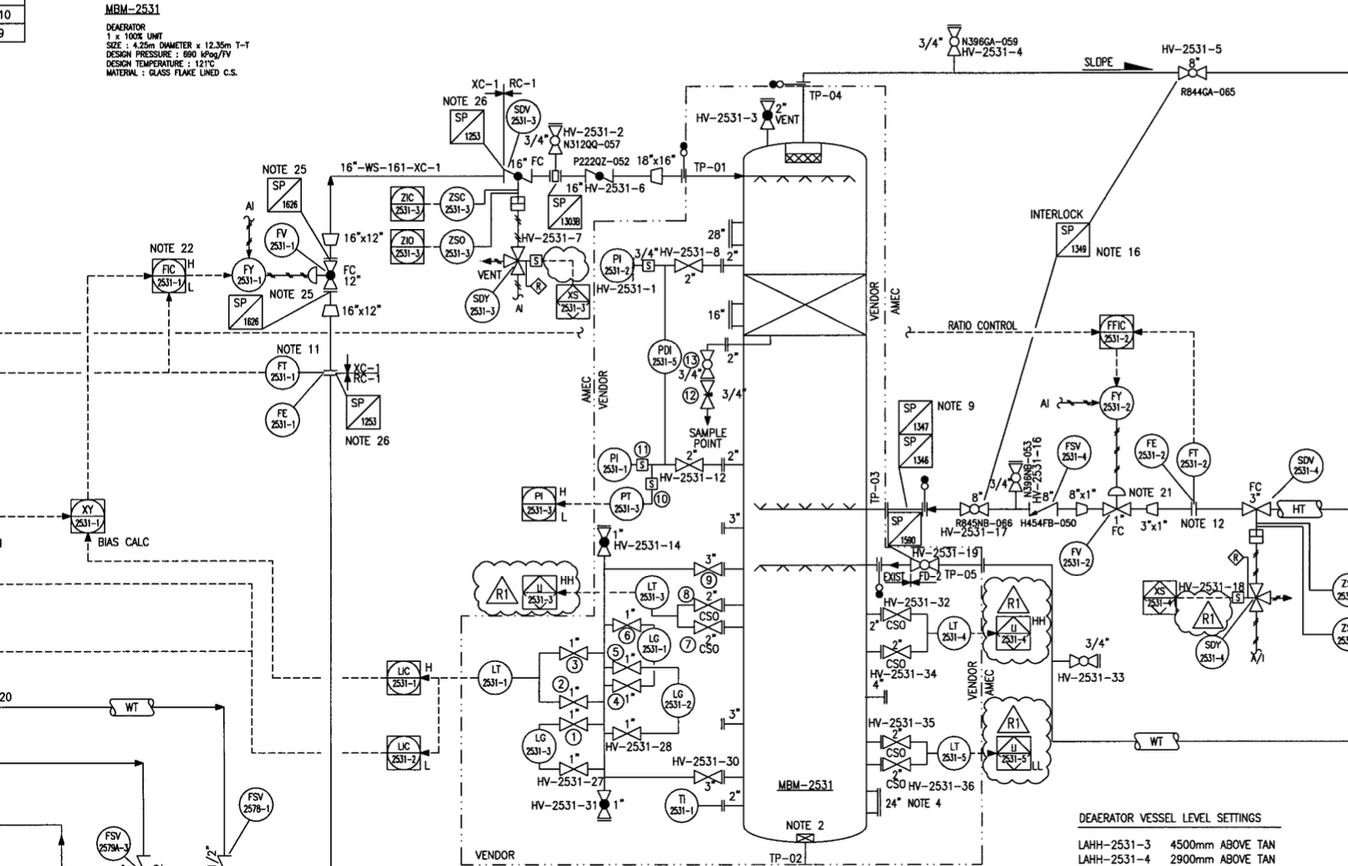Instrument: (1274, 439, 1329, 486), (1191, 631, 1237, 680), (513, 723, 559, 767), (1093, 378, 1136, 425), (262, 396, 304, 444), (1127, 427, 1172, 471), (1049, 430, 1093, 473), (473, 657, 520, 697), (1172, 437, 1214, 481), (933, 610, 974, 655), (657, 784, 702, 824), (627, 573, 674, 611), (463, 283, 503, 326), (596, 241, 636, 283), (658, 679, 697, 722), (435, 226, 477, 265), (261, 352, 303, 391), (437, 182, 477, 222), (932, 733, 973, 772), (258, 222, 302, 258), (634, 624, 673, 664), (605, 486, 647, 523), (595, 443, 632, 484), (228, 255, 269, 291), (505, 98, 543, 135), (644, 339, 682, 374)
Instrument-square: (513, 481, 559, 527), (383, 226, 430, 271), (1139, 573, 1181, 622), (382, 655, 426, 700), (63, 496, 110, 537), (518, 568, 559, 614), (1095, 308, 1136, 353), (382, 731, 423, 773), (991, 733, 1034, 773), (552, 280, 592, 323), (145, 257, 189, 294), (992, 614, 1033, 653), (389, 185, 428, 223)
